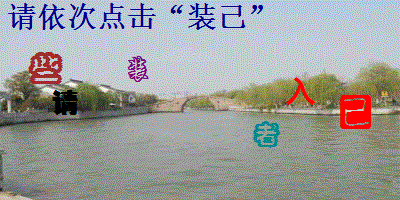result: (185, 2, 249, 31)
text: (338, 93, 374, 132), (26, 50, 64, 86), (284, 76, 318, 107), (251, 118, 281, 150), (49, 88, 81, 117), (124, 53, 151, 84)
